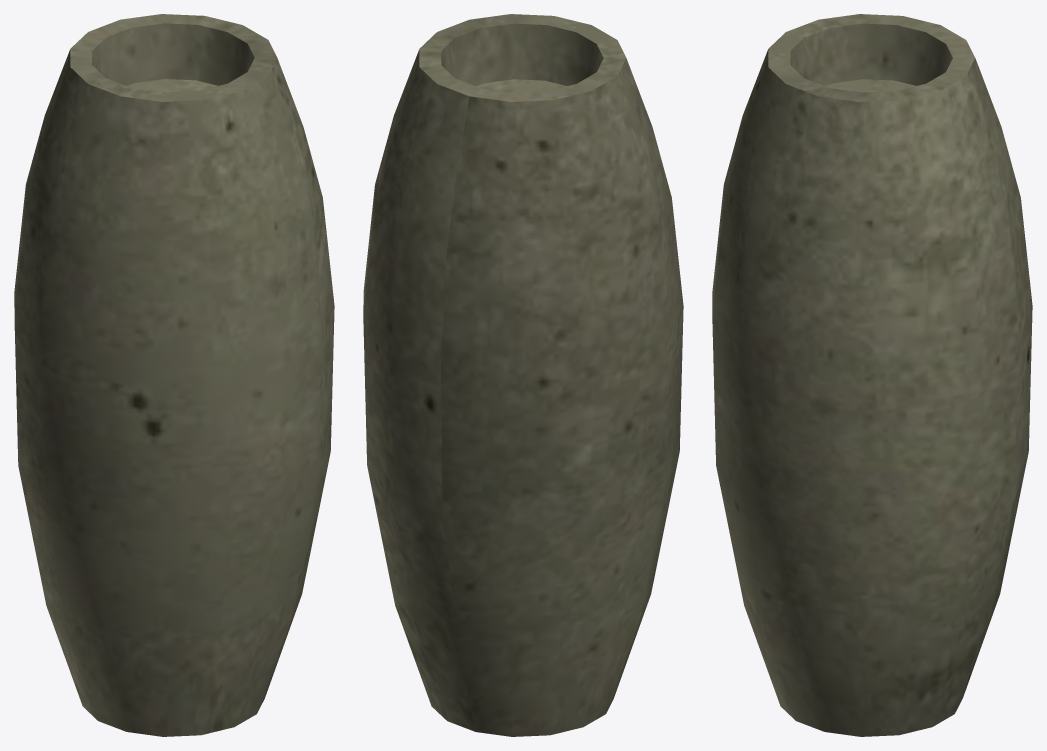
Rendered from Vase_12.glb.
3 renders of one model, left to right at view 1: azimuth 30°, elevation 25°; view 2: azimuth 150°, elevation 25°; view 3: azimuth 270°, elevation 25°, orthographic.
Visible parts, largest first — view 1: SM_Vase_12; view 2: SM_Vase_12; view 3: SM_Vase_12.
Boxes of the visible parts, x1,y1,x2,y2 form: SM_Vase_12: (14, 14, 334, 736); SM_Vase_12: (363, 14, 683, 736); SM_Vase_12: (712, 14, 1032, 736).
Bounding box in the file's own units: 0.0658 × 0.1444 × 0.0654.
1 material, 1 textured.
